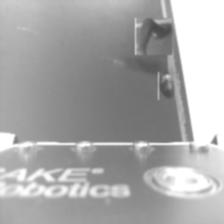Door Handle: (135, 18, 173, 55)
Lock: (158, 72, 175, 100)
